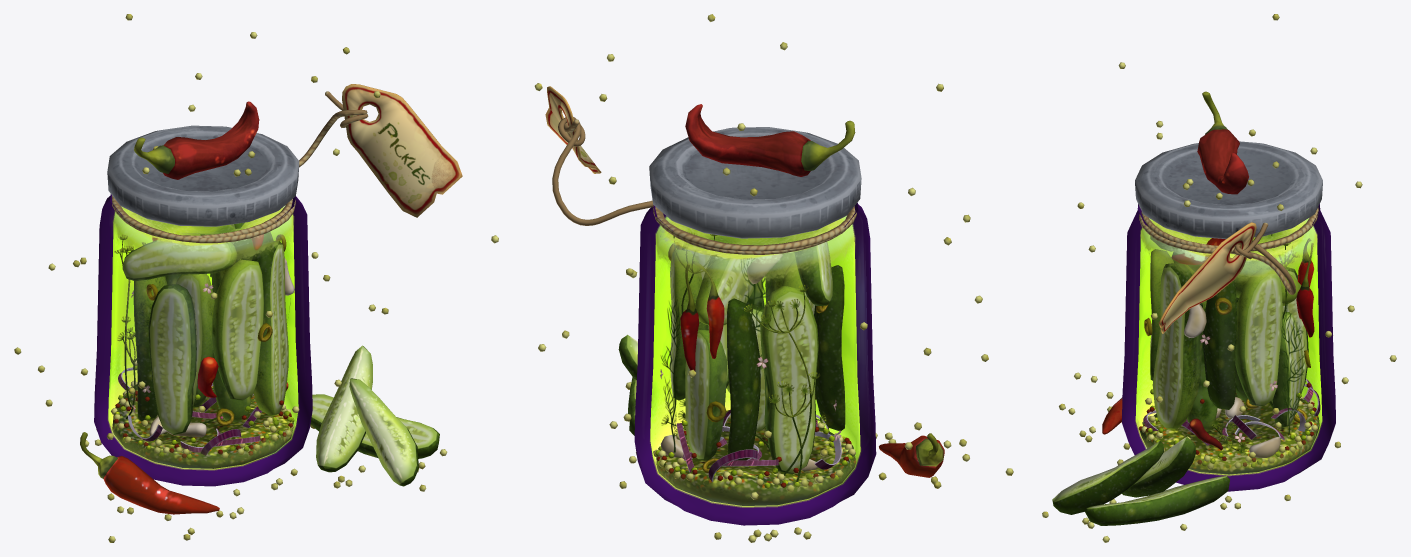
The picture shows the model from 3 angles, left to right: view 1: azimuth 30°, elevation 25°; view 2: azimuth 150°, elevation 25°; view 3: azimuth 270°, elevation 25°; orthographic projection. The views are drawn at different scales.
Parts seen in each view (by area): view 1: Jar_body.001, Solution.001, Jar_lid.001, Label.001, Cucumber_3.001, Cucumber_1.001, Bottom.001, Cucumber_2.001, Peper_1.001, Cucumber_slice2.001, Cucumber_slice1.001, Cucumber_4.001 (+12 smaller); view 2: Solution.001, Jar_lid.001, Jar_body.001, Cucumber_2-1.001, Bottom.001, Peper_1.001, Cucumber_3-1.001, Cucumber_4-1.001, Cucumber_3.001, Cucumber_1-3.001, Cucumber_1-2.001, Pepercorn_jar (+14 smaller); view 3: Jar_lid.001, Solution.001, Jar_body.001, Cucumber_1-3.001, Cucumber_2.001, Bottom.001, Cucumber_slice3.001, Cucumber_3-2.001, Label.001, Cucumber_slice1.001, Peper_1.001, Cucumber_4-1.001 (+16 smaller).
Boxes of the visible parts, x1,y1,x2,y2 form: Jar_body.001: (94,194,312,486); Solution.001: (107,205,298,470); Jar_lid.001: (107,125,299,226); Label.001: (342,84,462,217); Cucumber_3.001: (148,284,196,434); Cucumber_1.001: (212,259,263,400); Bottom.001: (112,384,293,468); Cucumber_2.001: (251,241,288,415); Peper_1.001: (134,101,259,179); Cucumber_slice2.001: (316,345,372,472); Cucumber_slice1.001: (349,378,418,486); Cucumber_4.001: (122,234,237,281); Solution.001: (650,215,861,507); Jar_lid.001: (649,127,861,238); Jar_body.001: (634,202,876,525); Cucumber_2-1.001: (760,286,818,474); Bottom.001: (656,410,855,505); Peper_1.001: (685,104,855,176); Cucumber_3-1.001: (727,298,760,466); Cucumber_4-1.001: (685,330,726,460); Cucumber_3.001: (814,265,845,430); Cucumber_1-3.001: (670,249,708,400); Cucumber_1-2.001: (695,255,756,325); Pepercorn_jar: (653,415,855,492); Jar_lid.001: (1135,141,1322,238); Solution.001: (1135,218,1322,476); Jar_body.001: (1122,204,1335,491); Cucumber_1-3.001: (1235,269,1282,406); Cucumber_2.001: (1152,263,1202,429); Bottom.001: (1139,393,1319,474); Cucumber_slice3.001: (1085,476,1229,525); Cucumber_3-2.001: (1202,279,1236,409); Label.001: (1158,222,1256,333); Cucumber_slice1.001: (1052,441,1164,514); Peper_1.001: (1197,91,1248,194); Cucumber_4-1.001: (1272,312,1303,427).
Size of the model in its own units: 5.45 by 5.33 by 4.07.
5 materials, 4 textured.
